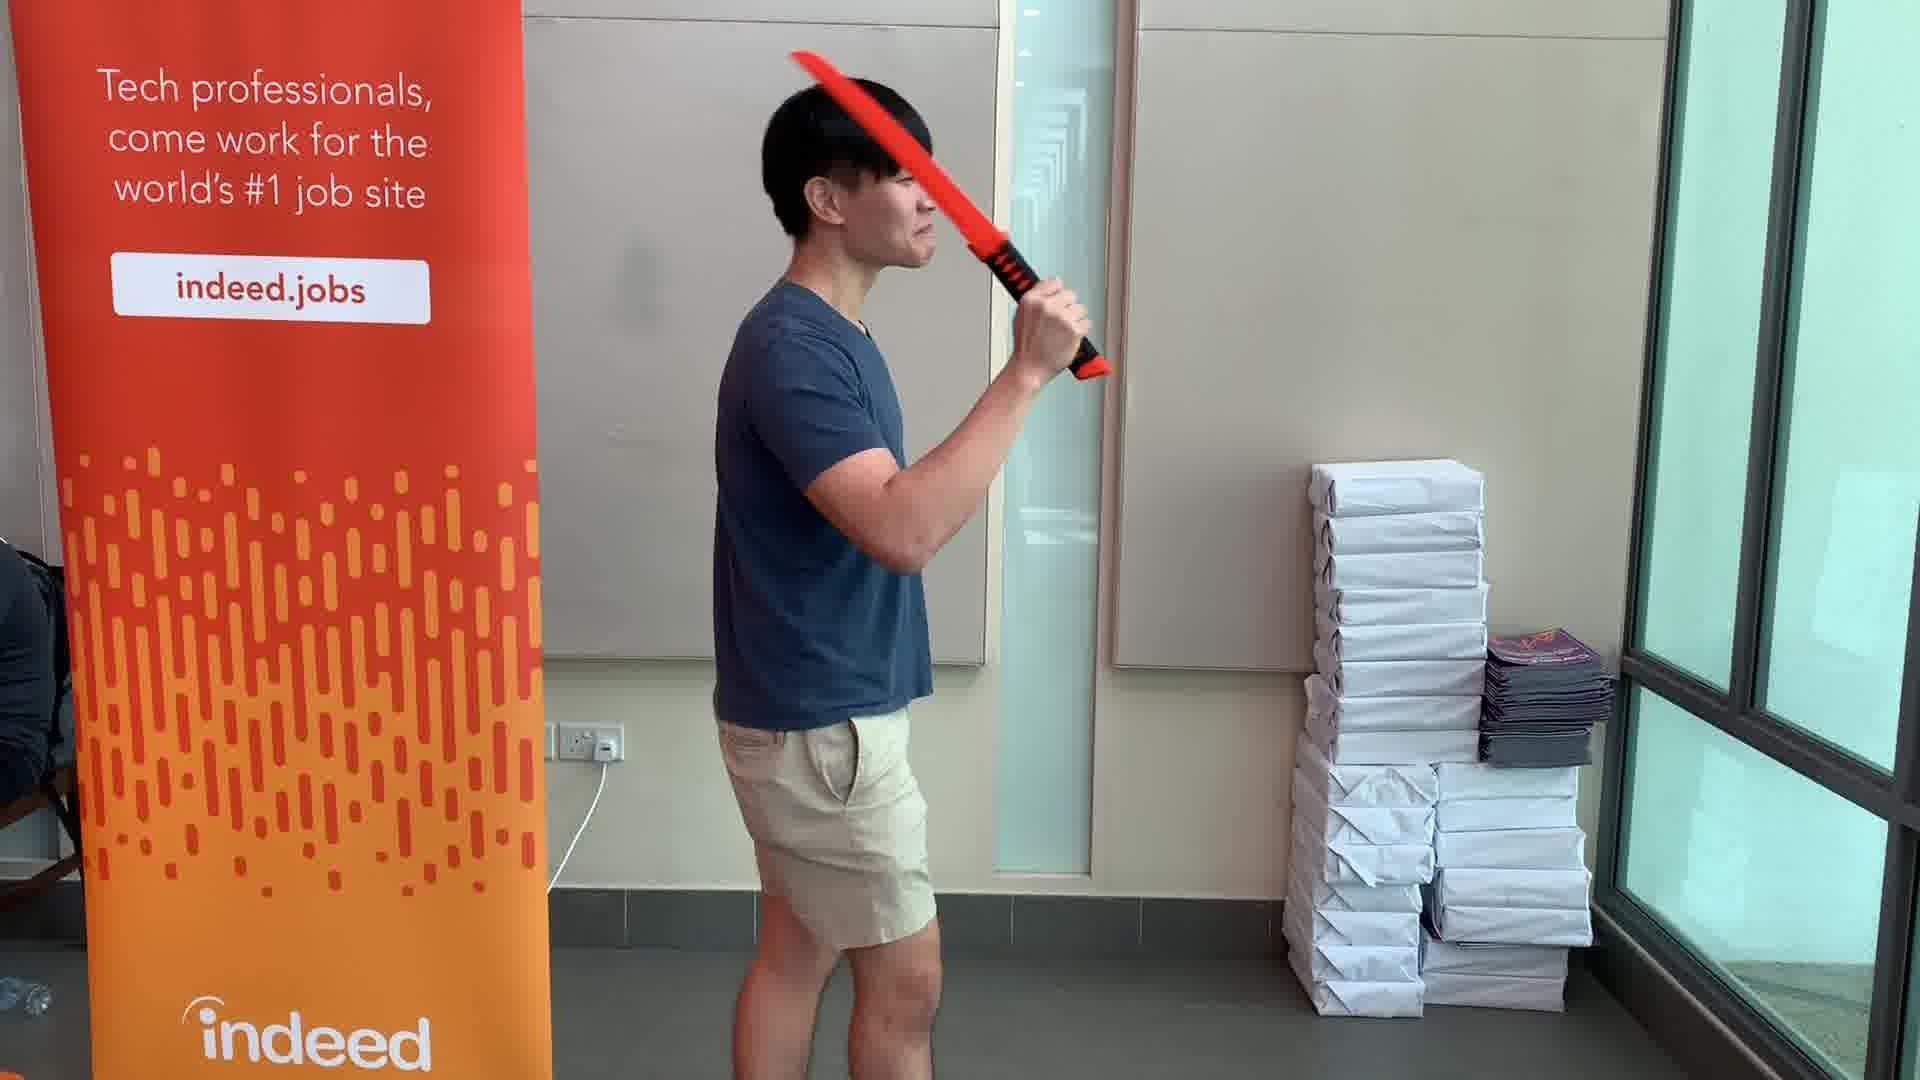knife: (785, 46, 1122, 382)
